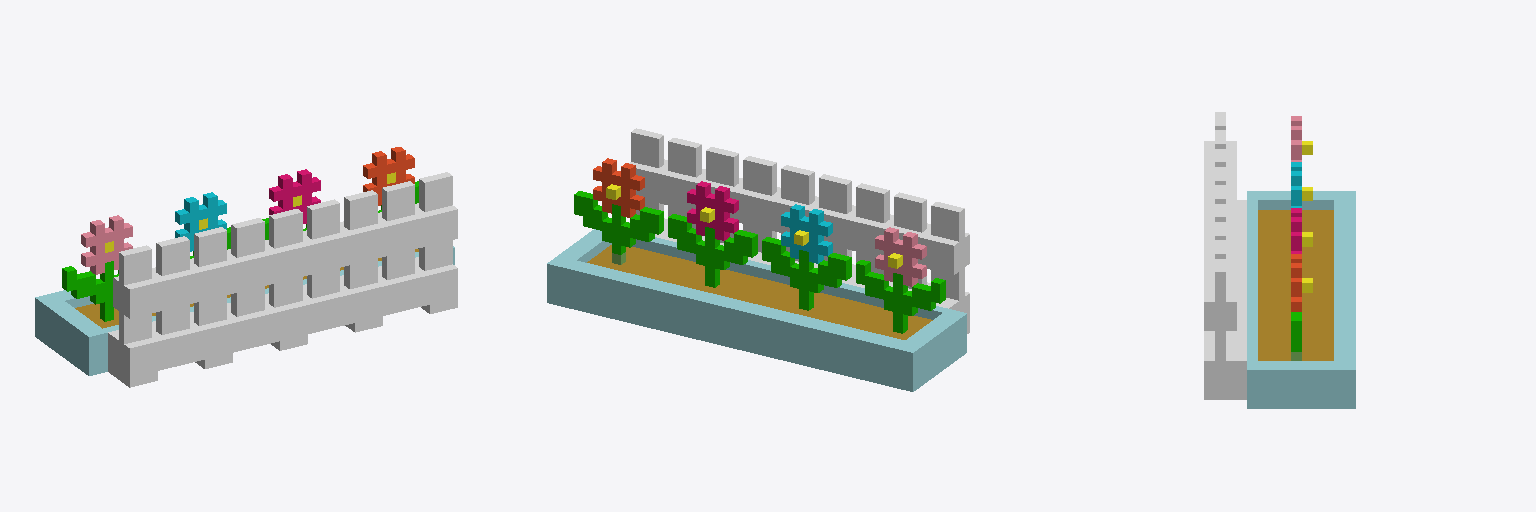
3 renders of one model, left to right at view 1: azimuth 30°, elevation 25°; view 2: azimuth 150°, elevation 25°; view 3: azimuth 270°, elevation 25°, orthographic.
Parts seen in each view (by area): view 1: object 1; view 2: object 1; view 3: object 1.
Part boxes in pixels (left/top/right/bottom): object 1: left=35, top=147, right=457, bottom=387; object 1: left=547, top=128, right=969, bottom=391; object 1: left=1204, top=112, right=1355, bottom=408.
Bounding box in the file's own units: 3.9 × 1.3 × 1.4.
1 materials, 1 textured.